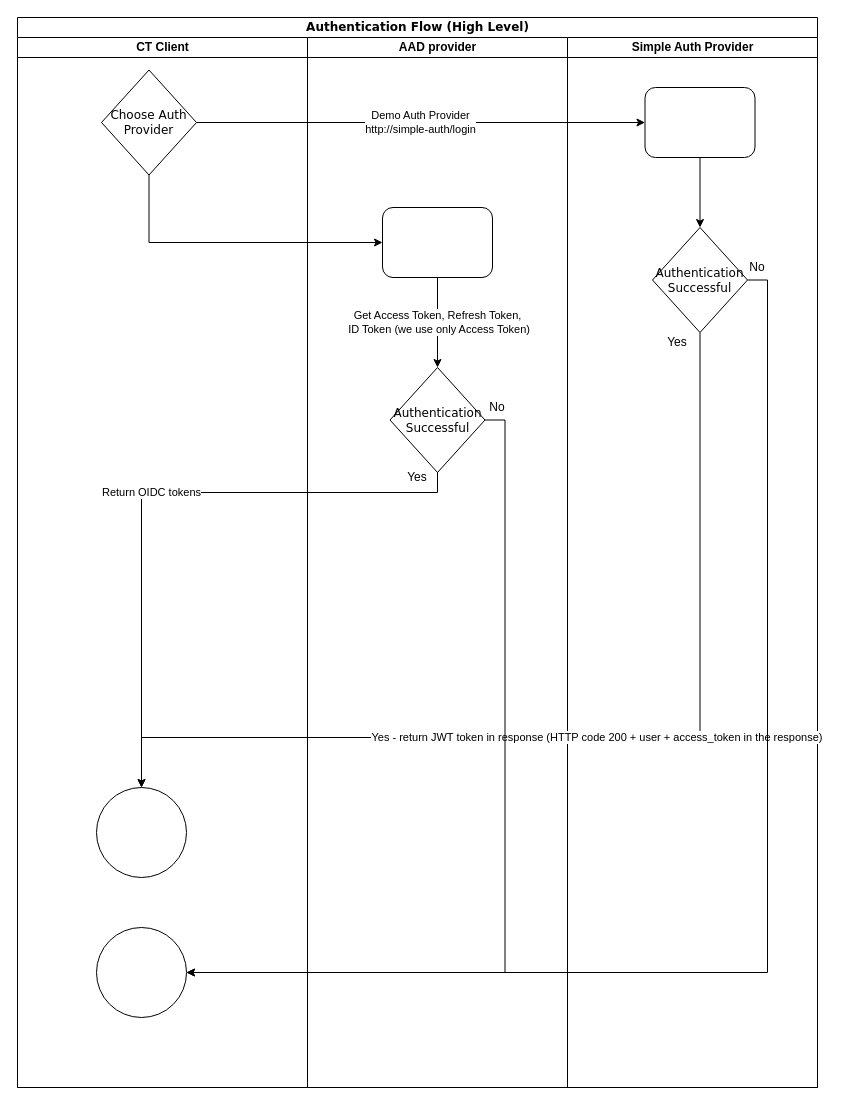
This 842x1105 diagram has some shape labels left out. Each missing label, with the centre of its shape:
"Auth with AAD provider" goes at point 437,242.
"Auth with Simple Auth provider" goes at point 699,122.
"End workflow. Authenticated" goes at point 141,832.
"End workflow. Unauthenticated." goes at point 141,972.
